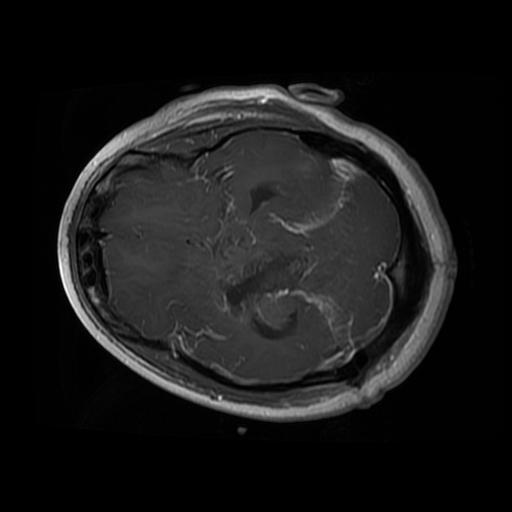glioma: (221, 249, 314, 341)
